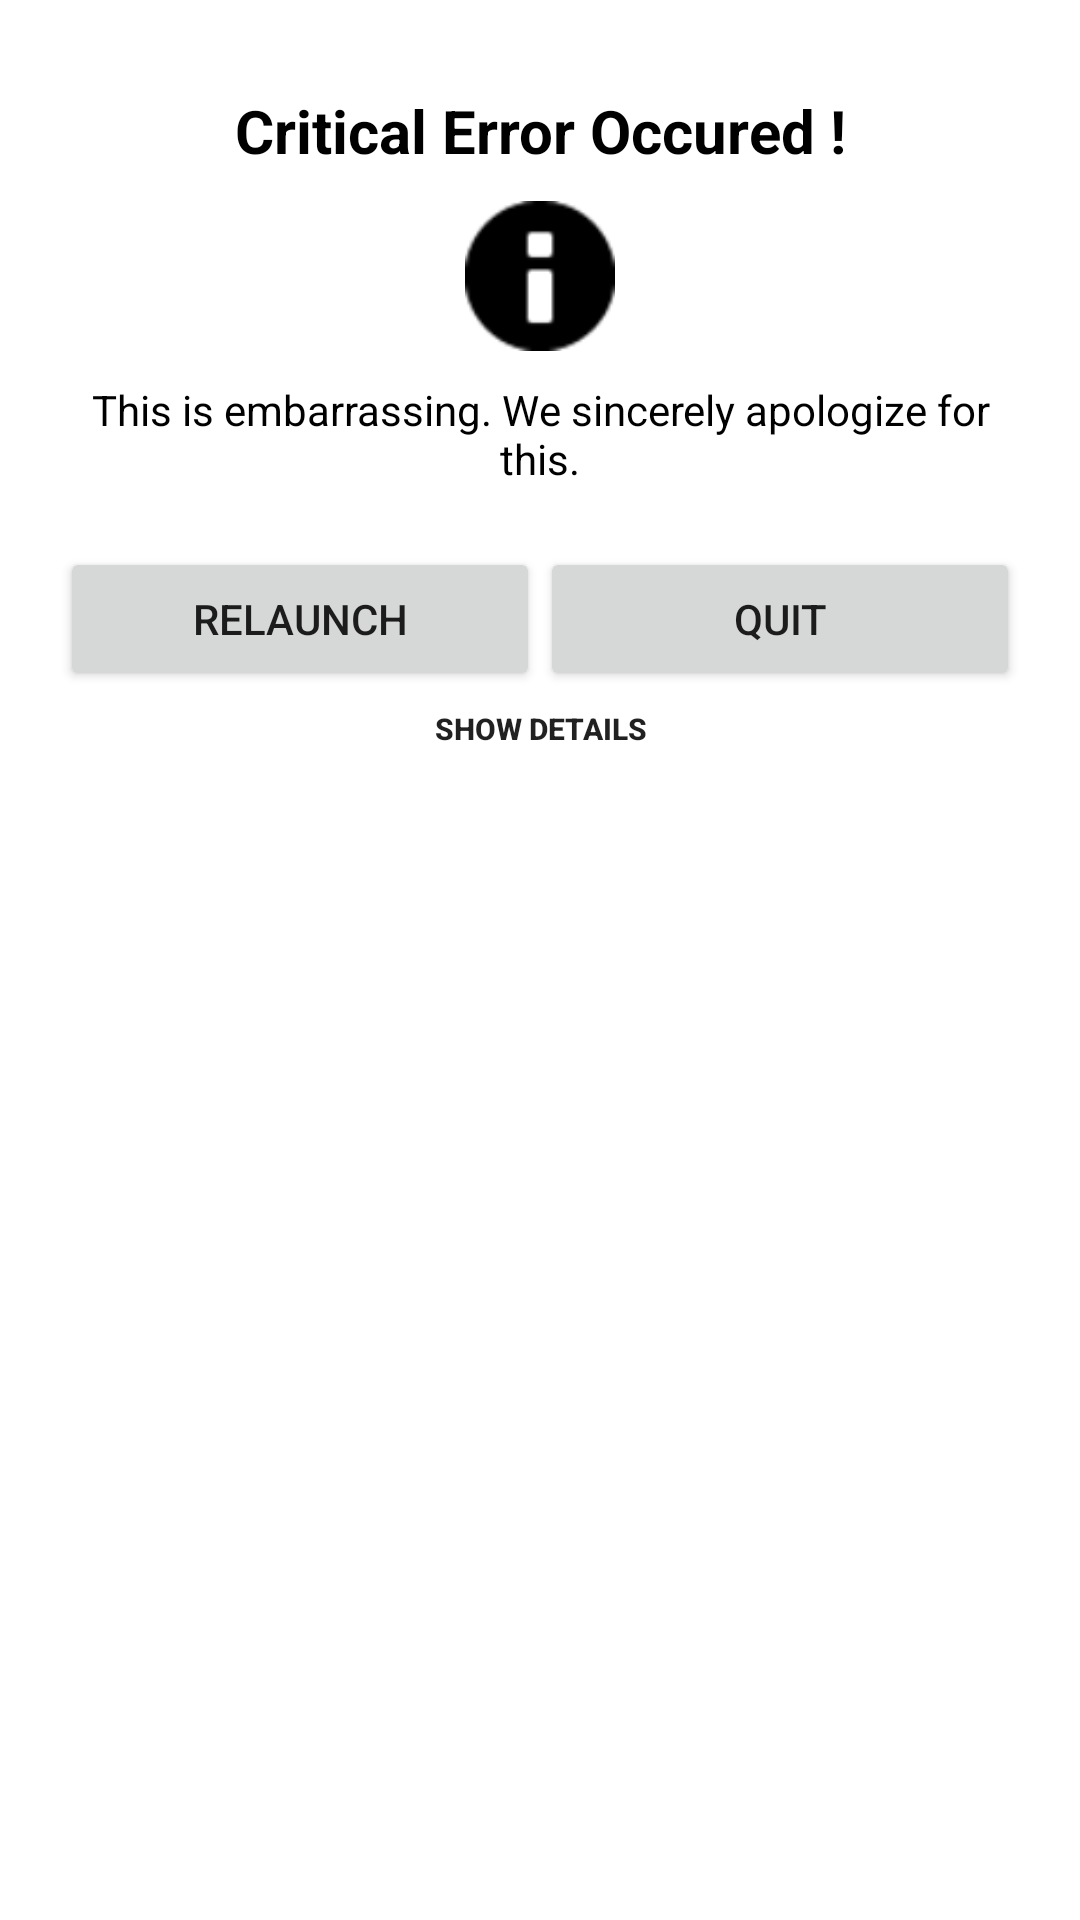

Icons on this 1080*1920 Android screen, each with its box as box=[x1, y1, x2, y2]:
info: box=[465, 201, 615, 351]
